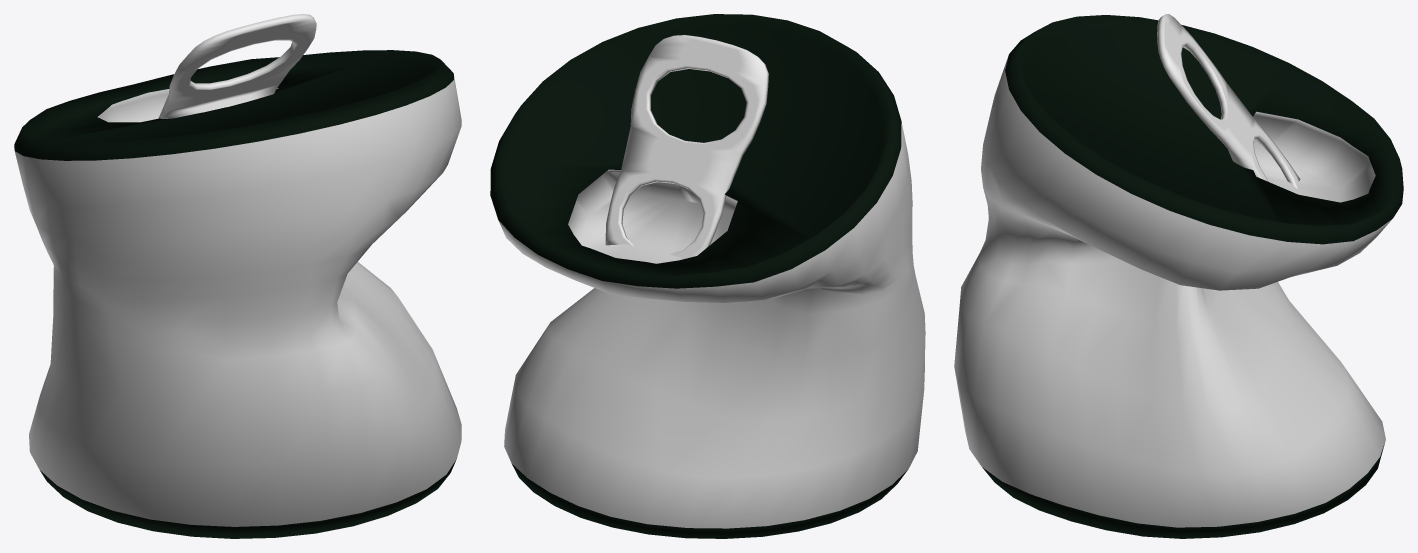
Rendered from CanCrushed.fbx.
The picture shows the model from 3 angles, left to right: view 1: azimuth 30°, elevation 25°; view 2: azimuth 150°, elevation 25°; view 3: azimuth 270°, elevation 25°; orthographic projection. The views are drawn at different scales.
Visible parts, largest first — view 1: Cylinder, Plane; view 2: Cylinder, Plane; view 3: Cylinder, Plane.
Part boxes in pixels (bbox=[...]): Cylinder: bbox=[14, 50, 461, 538]; Plane: bbox=[158, 14, 316, 118]; Cylinder: bbox=[490, 14, 925, 538]; Plane: bbox=[605, 35, 768, 259]; Cylinder: bbox=[954, 15, 1403, 538]; Plane: bbox=[1157, 14, 1300, 188].
Bounding box in the file's own units: 2 × 2.16 × 2.08.
3 materials, 1 textured.
